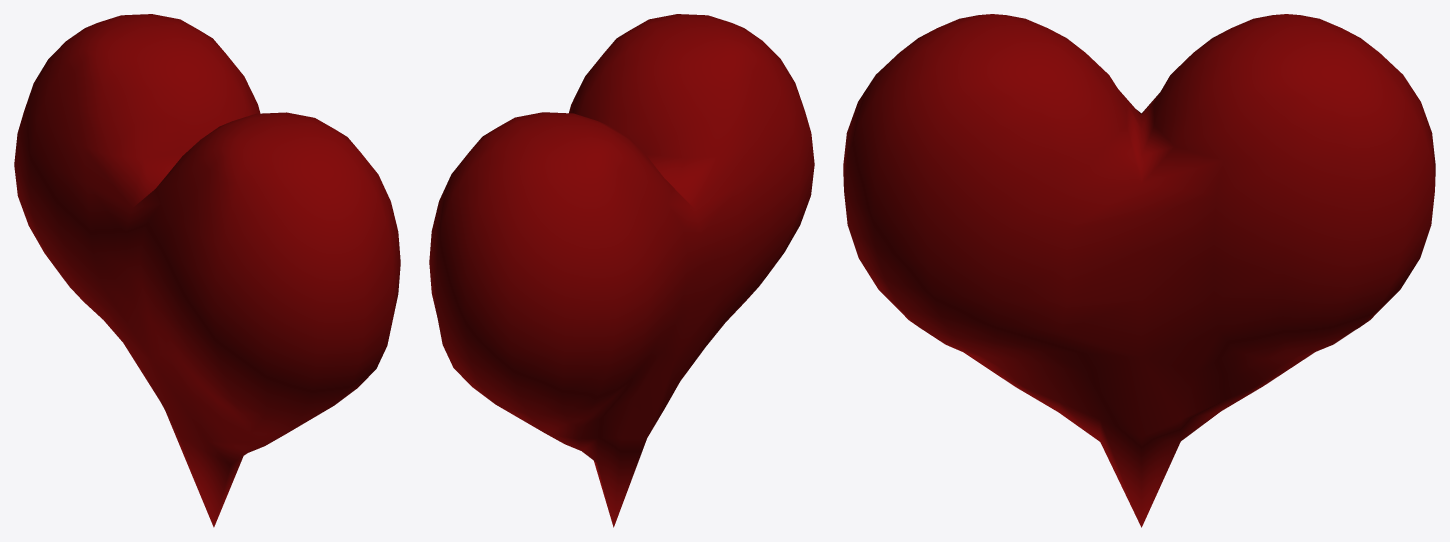
File: heart_reaction.glb
3 renders of one model, left to right at view 1: azimuth 30°, elevation 25°; view 2: azimuth 150°, elevation 25°; view 3: azimuth 270°, elevation 25°, orthographic. The views are drawn at different scales.
Visible parts, largest first — view 1: polySurface2; view 2: polySurface2; view 3: polySurface2.
Boxes of the visible parts, x1,y1,x2,y2 form: polySurface2: (14, 14, 400, 527); polySurface2: (429, 14, 814, 527); polySurface2: (843, 14, 1435, 527).
Size of the model in its own units: 1.93 by 3.96 by 4.29.
